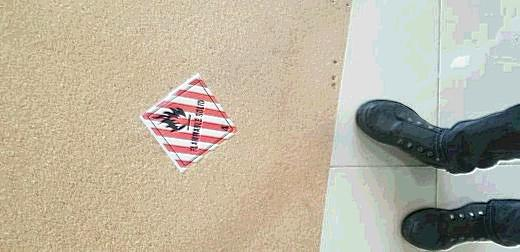flammable-solid: (141, 72, 238, 173)
